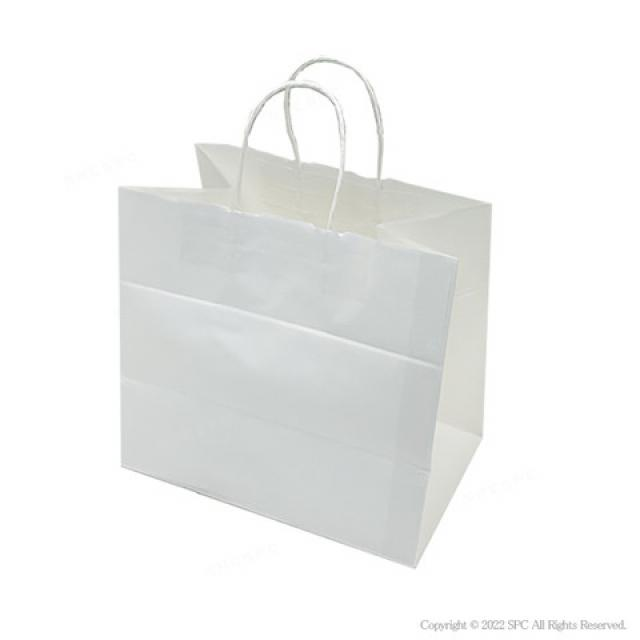paper bag: (116, 50, 494, 571)
